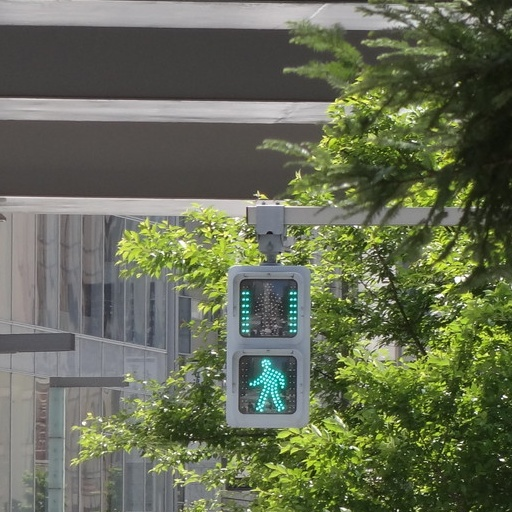Pedestrian_Signal_Blue: (230, 261, 309, 429)
